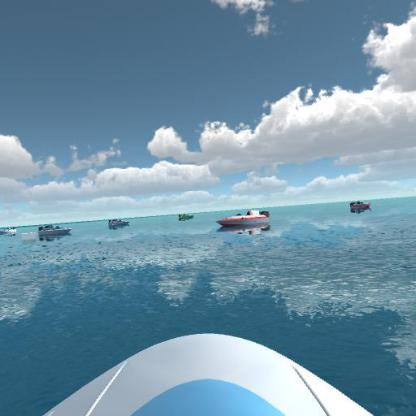usv0: (176, 210, 197, 222)
usv1: (36, 217, 74, 240), (106, 216, 134, 232), (0, 221, 17, 238)
usv3: (214, 209, 274, 232), (349, 195, 374, 215)
